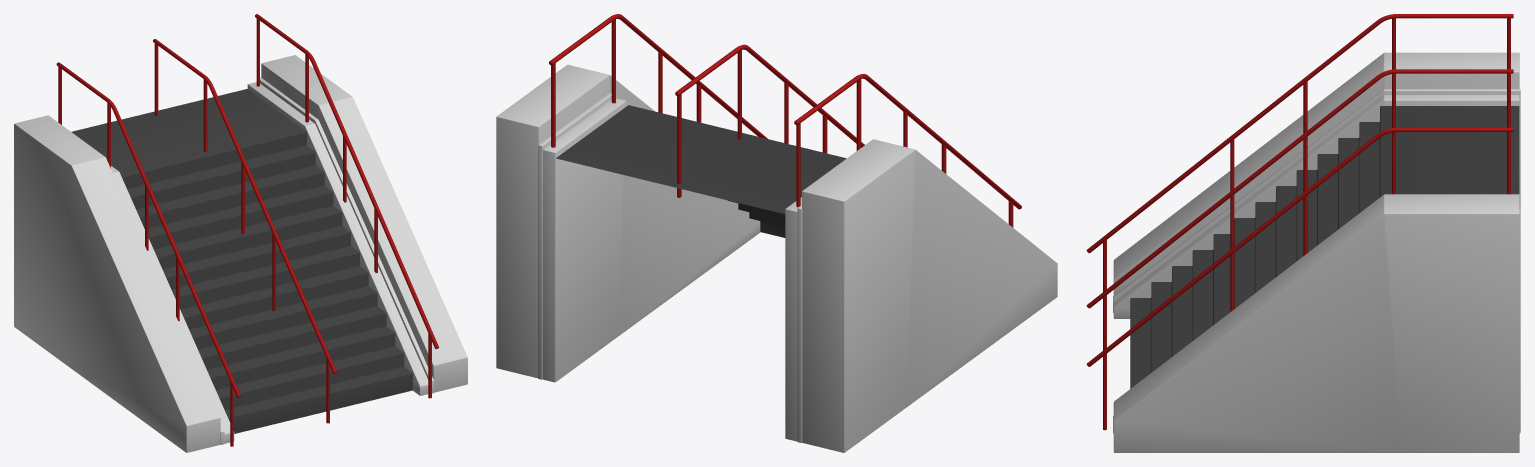
File: SM_staircase.fbx
3 renders of one model, left to right at view 1: azimuth 30°, elevation 25°; view 2: azimuth 150°, elevation 25°; view 3: azimuth 270°, elevation 25°, orthographic. The views are drawn at different scales.
Visible parts, largest first — view 1: Box224; view 2: Box224; view 3: Box224.
Boxes of the visible parts, bbox=[...] form: Box224: bbox=[14, 14, 467, 452]; Box224: bbox=[496, 14, 1057, 452]; Box224: bbox=[1086, 14, 1520, 452].
Bounding box in the file's own units: 175 × 153 × 199.
